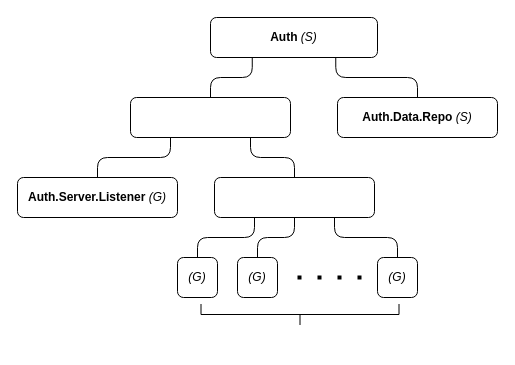
The diagram is 515 pixels wide and 365 high, and some of its shapes have lost their labels. Here are the shapes that lost their labels. From the top down, the box of each, then its label:
(130, 96, 290, 138): Auth.Server (S)
(214, 176, 374, 218): Auth.Server.Processor (G)
(200, 303, 399, 325): Auth.Server.Worker Pool
